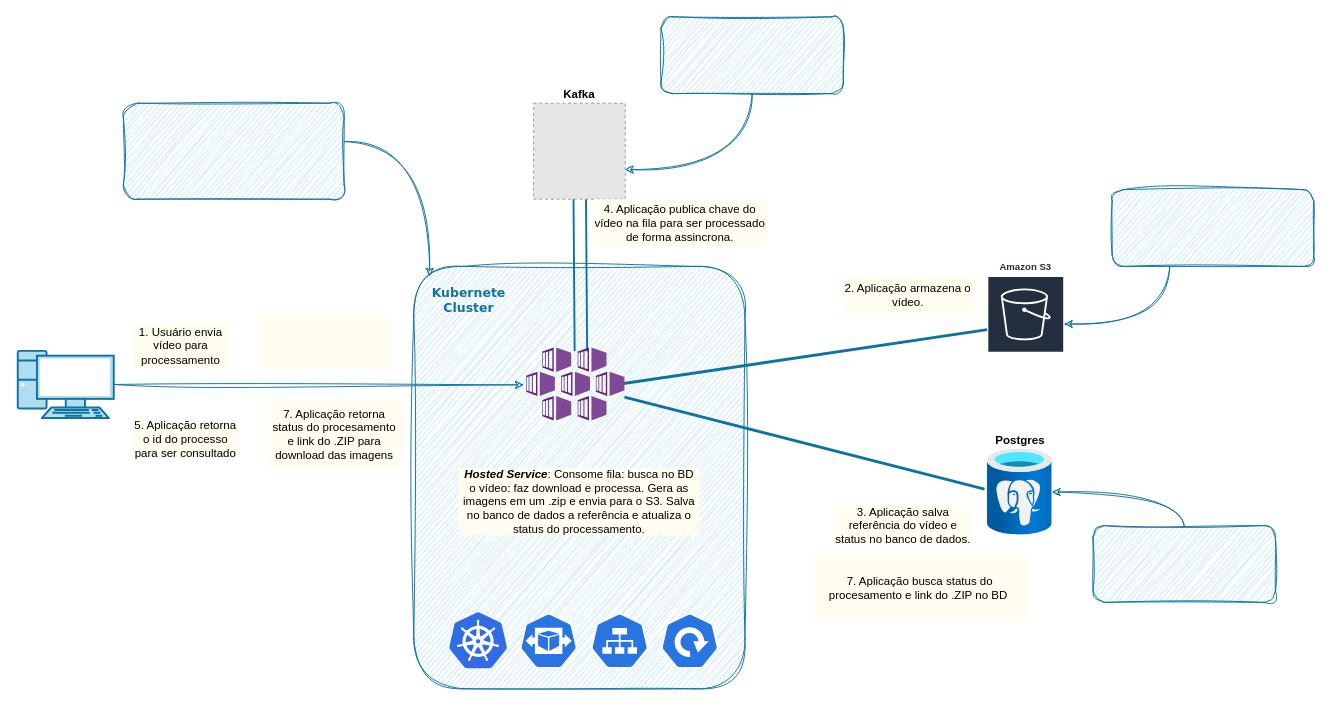
The diagram is 1331 pixels wide and 706 high, and some of its shapes have lost their labels. Grey dashed boxes stand in for pictures. Each missing label, with the centre of its shape:
6. Usuário consulta status do processamento do vídeo: point 324,341
API: point 575,384
Armazernamento das mídias (videos e imagens).: point 1212,227
Banco de dados da aplicação: point 1183,563
Fila para garantir a execução da requisição.: point 751,55
Kubernetes para garantir a escalabilidade do projeto e tolerância a falha: point 233,150
